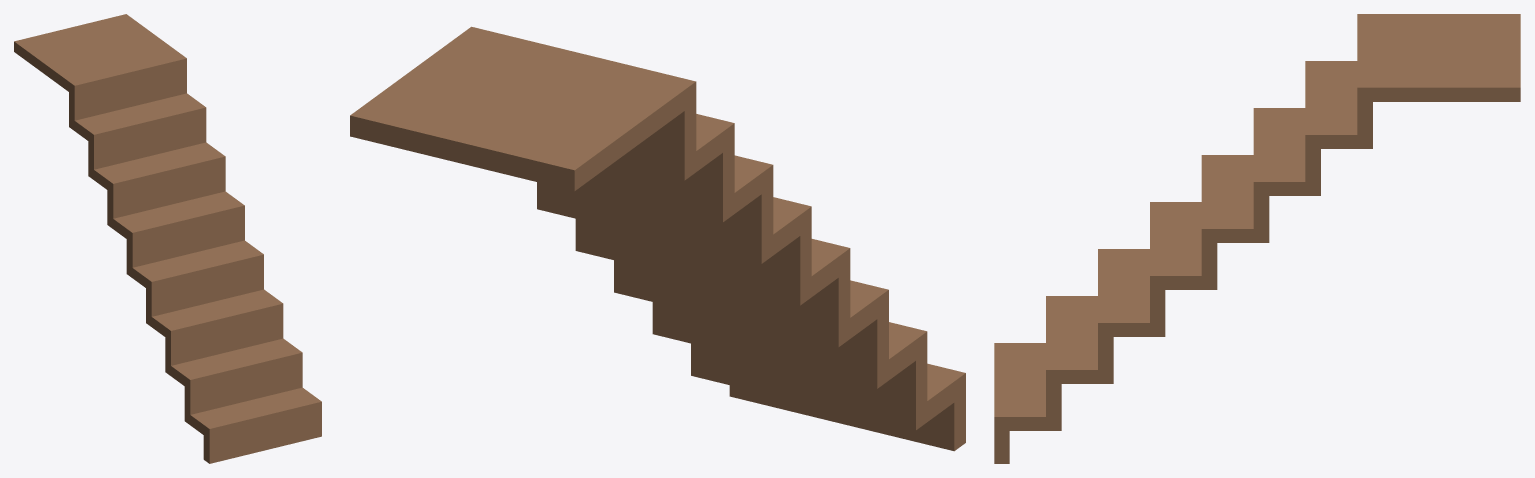
File: stairs.fbx
3 views of the same model, side by side, from view 1: azimuth 30°, elevation 25°; view 2: azimuth 150°, elevation 25°; view 3: azimuth 270°, elevation 25° (orthographic). The views are drawn at different scales.
Parts seen in each view (by area): view 1: Cube; view 2: Cube; view 3: Cube.
Boxes of the visible parts, left/top/right/bottom form: Cube: left=14, top=14, right=321, bottom=463; Cube: left=350, top=26, right=965, bottom=451; Cube: left=994, top=14, right=1520, bottom=463.
Size of the model in its own units: 3.37 by 8 by 10.15.
